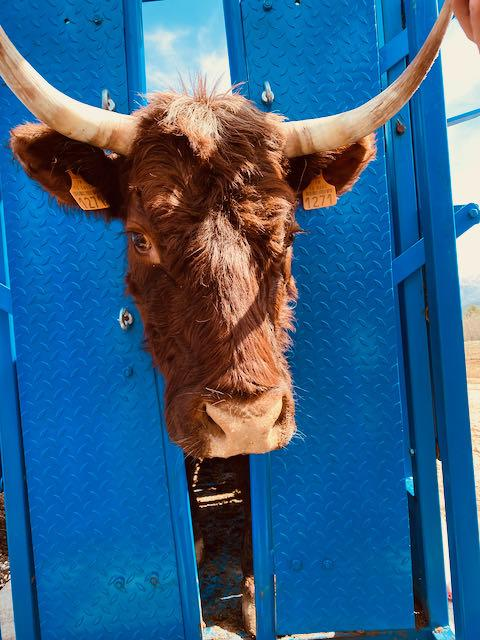muzzles: (149, 392, 318, 463)
